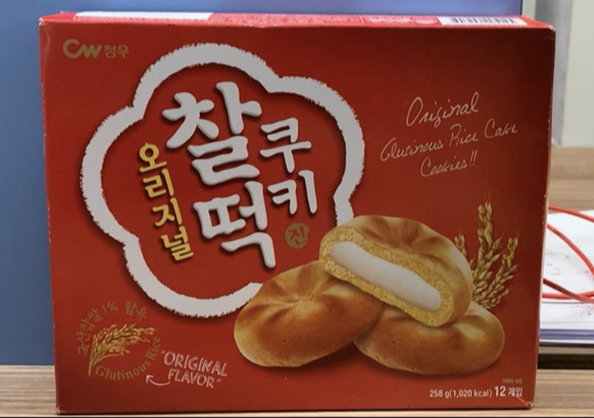cookies_150g: (68, 42, 520, 398)
